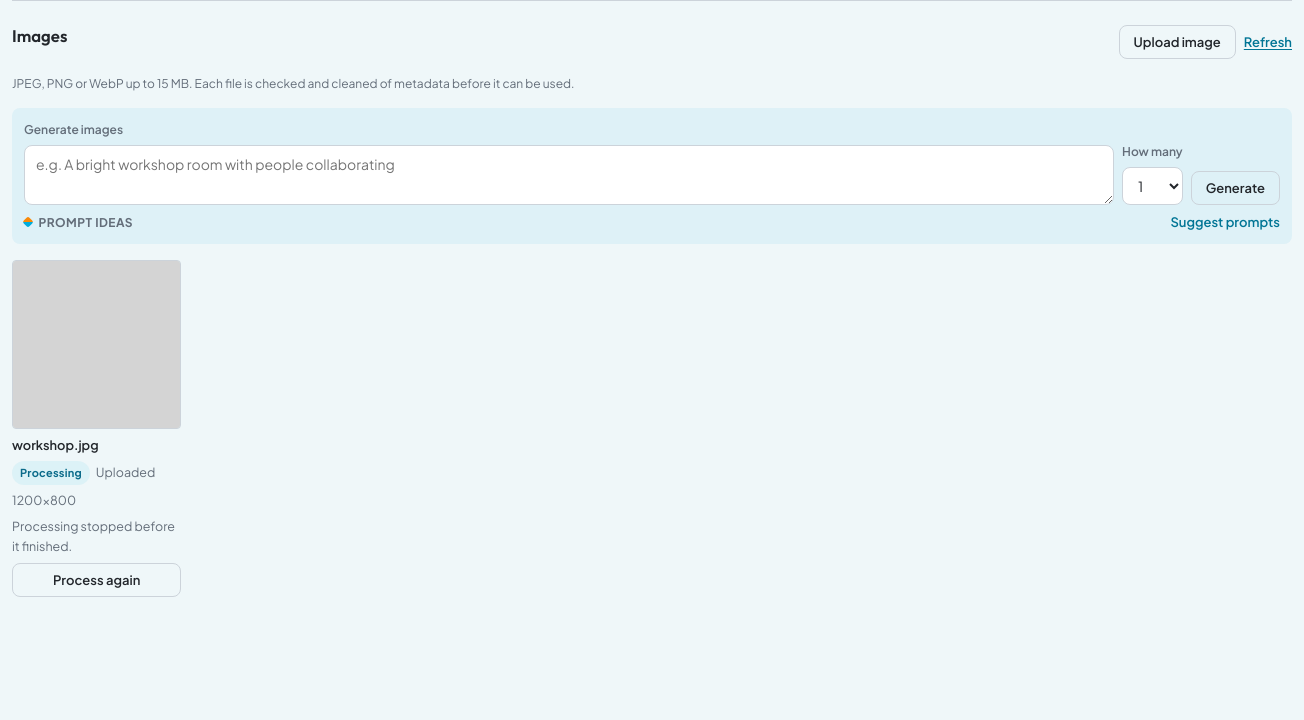
it: AssetLibrary › explains when the asset was already processed, or processing cannot start
Click the button with aria-label "Process workshop.jpg again". click: (97, 580)
box: [12,563,181,597]
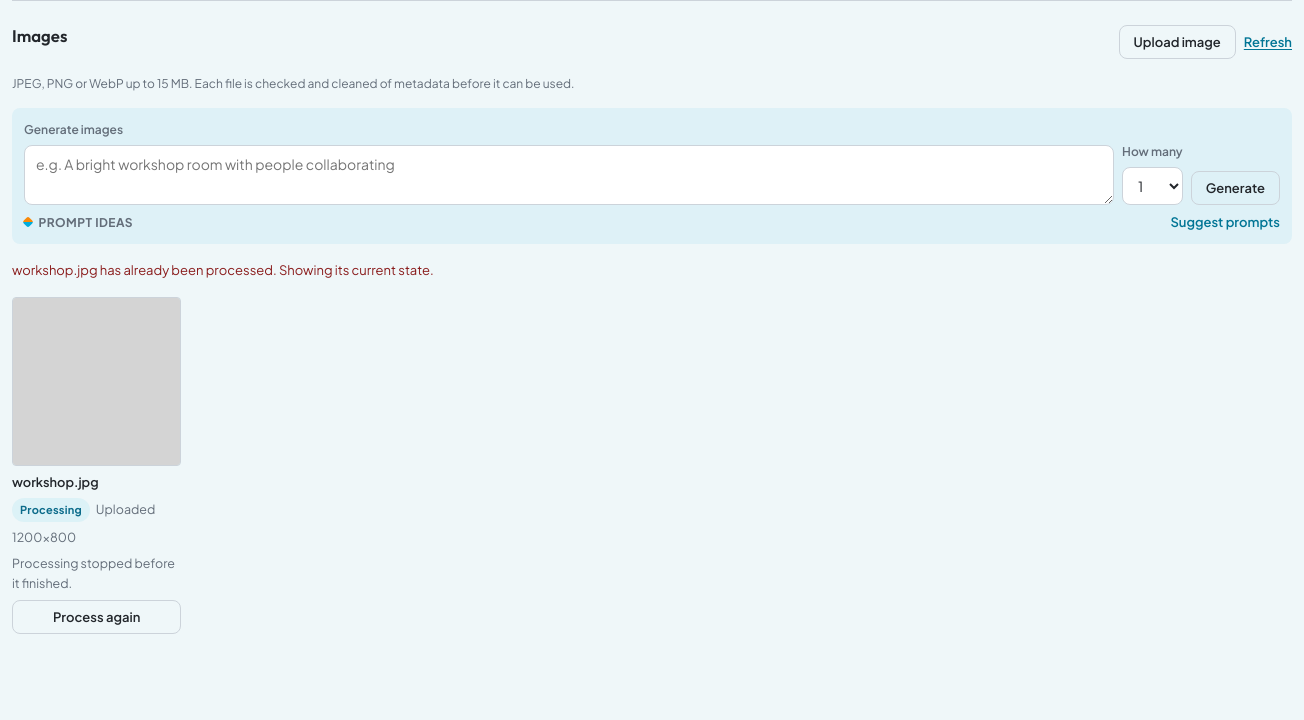
Expected: the text "workshop.jpg has already been processed. Showing its current state." is shown, [12,262,434,278]
Click the button with aria-label "Process workshop.jpg again". click: (97, 617)
box: [12,600,181,634]
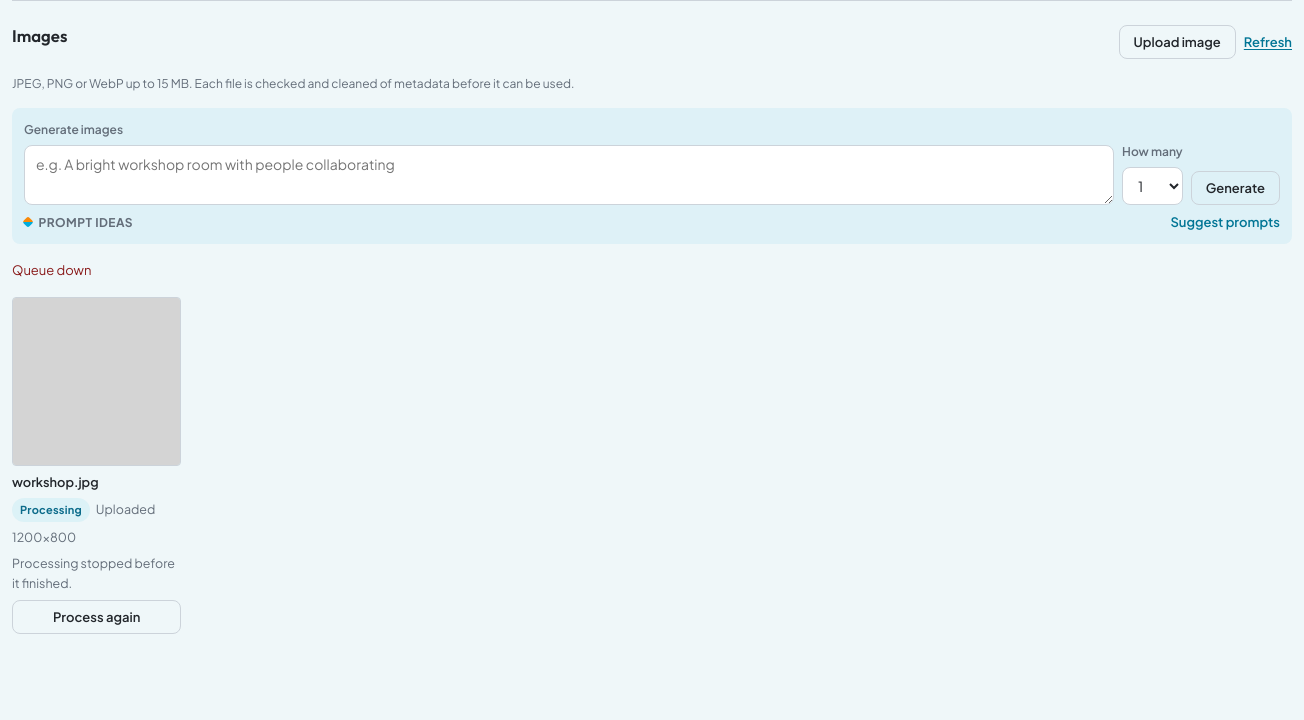
Expected: the text "Queue down" is shown, [12,262,91,278]
